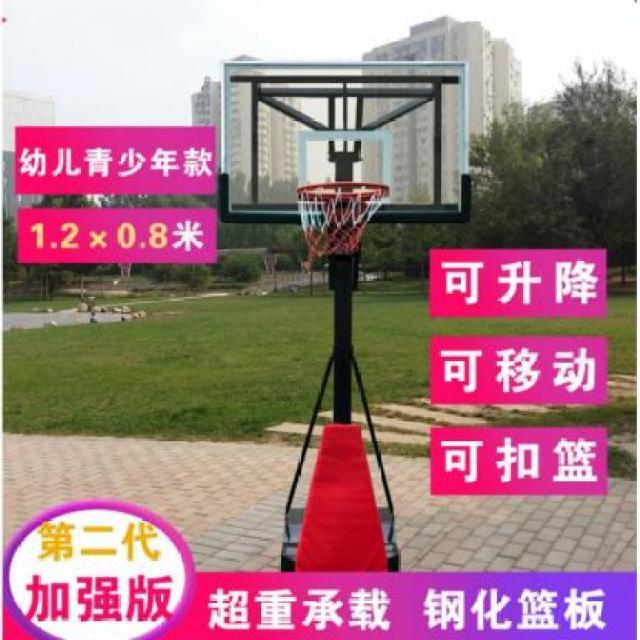rim: (300, 182, 392, 258)
